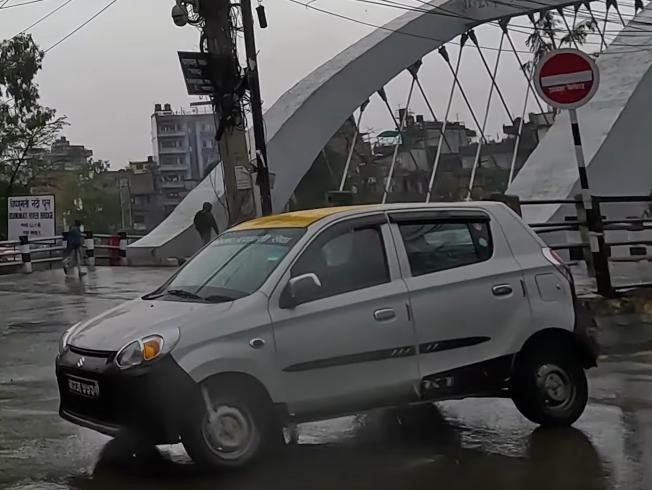taxi: (52, 195, 601, 471)
